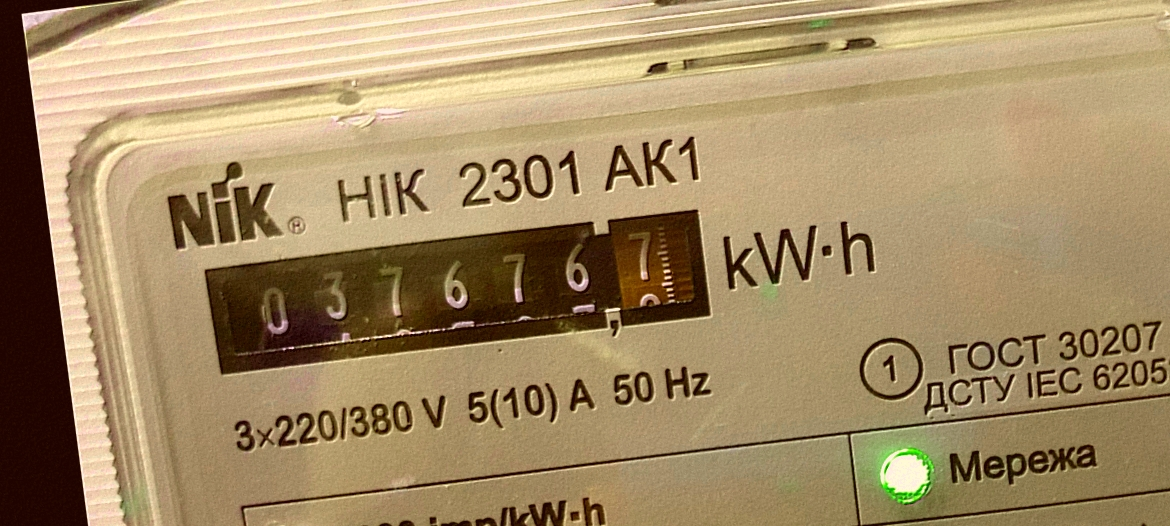0: (255, 281, 296, 339)
3: (317, 265, 352, 325)
6: (435, 254, 474, 312), (558, 238, 595, 296)
7: (497, 248, 535, 310), (375, 261, 413, 321), (625, 226, 660, 285)
screen: (187, 187, 730, 400)
